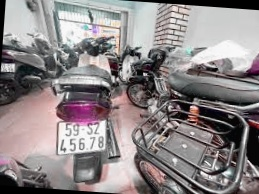Bien-so: (55, 115, 108, 160), (1, 64, 15, 74)
